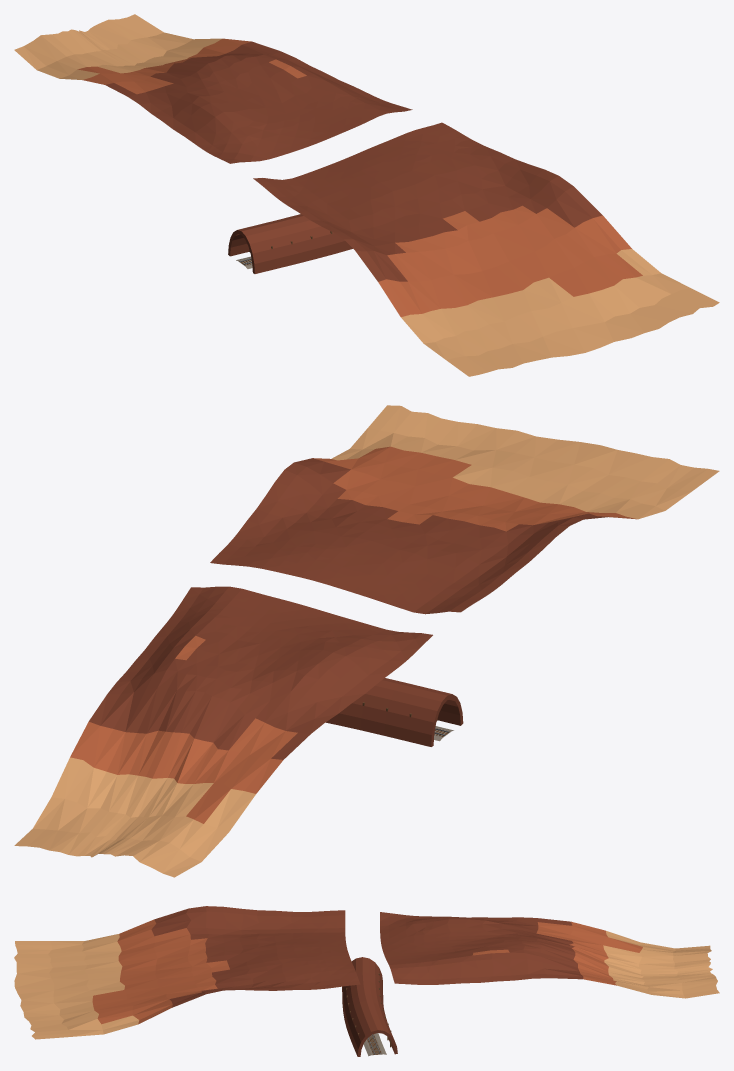
Rendered from SM_FG_Chunk_Tunnel_CurveL_A.fbx.
3 views of the same model, one above another, from view 1: azimuth 30°, elevation 25°; view 2: azimuth 150°, elevation 25°; view 3: azimuth 270°, elevation 25° (orthographic). The views are drawn at different scales.
Parts seen in each view (by area): view 1: FG_Chunk_Tunnel_CurveL_A_Ground, FG_Chunk_Tunnel_CurveL_A_SceneryNear; view 2: FG_Chunk_Tunnel_CurveL_A_Ground, FG_Chunk_Tunnel_CurveL_A_SceneryNear; view 3: FG_Chunk_Tunnel_CurveL_A_Ground, FG_Chunk_Tunnel_CurveL_A_SceneryNear, FG_Chunk_Tunnel_CurveL_A_Track.
Boxes of the visible parts, x1,y1,x2,y2 form: FG_Chunk_Tunnel_CurveL_A_Ground: (14, 14, 719, 376); FG_Chunk_Tunnel_CurveL_A_SceneryNear: (228, 214, 352, 273); FG_Chunk_Tunnel_CurveL_A_Ground: (14, 405, 719, 877); FG_Chunk_Tunnel_CurveL_A_SceneryNear: (326, 678, 463, 746); FG_Chunk_Tunnel_CurveL_A_Ground: (14, 906, 719, 1039); FG_Chunk_Tunnel_CurveL_A_SceneryNear: (342, 957, 397, 1056); FG_Chunk_Tunnel_CurveL_A_Track: (363, 1033, 386, 1056).
Size of the model in its own units: 6706 by 20314 by 2520.
